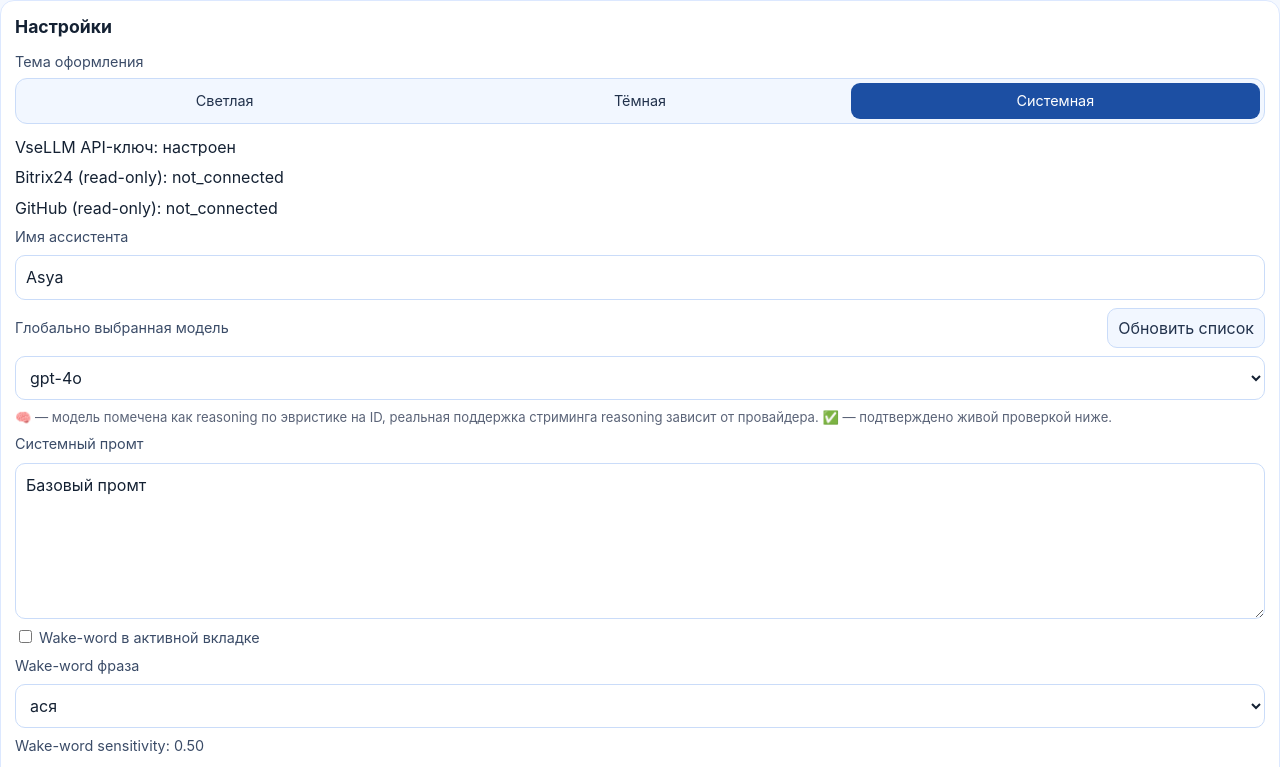
Test case: SettingsPage › позволяет изменить системный промт и сохранить настройки
This screenshot has width=1280, height=767.
Select "openai/gpt-5" in the dropdown labelled "Глобально выбранная модель": (640, 378) [15,356,1265,400]
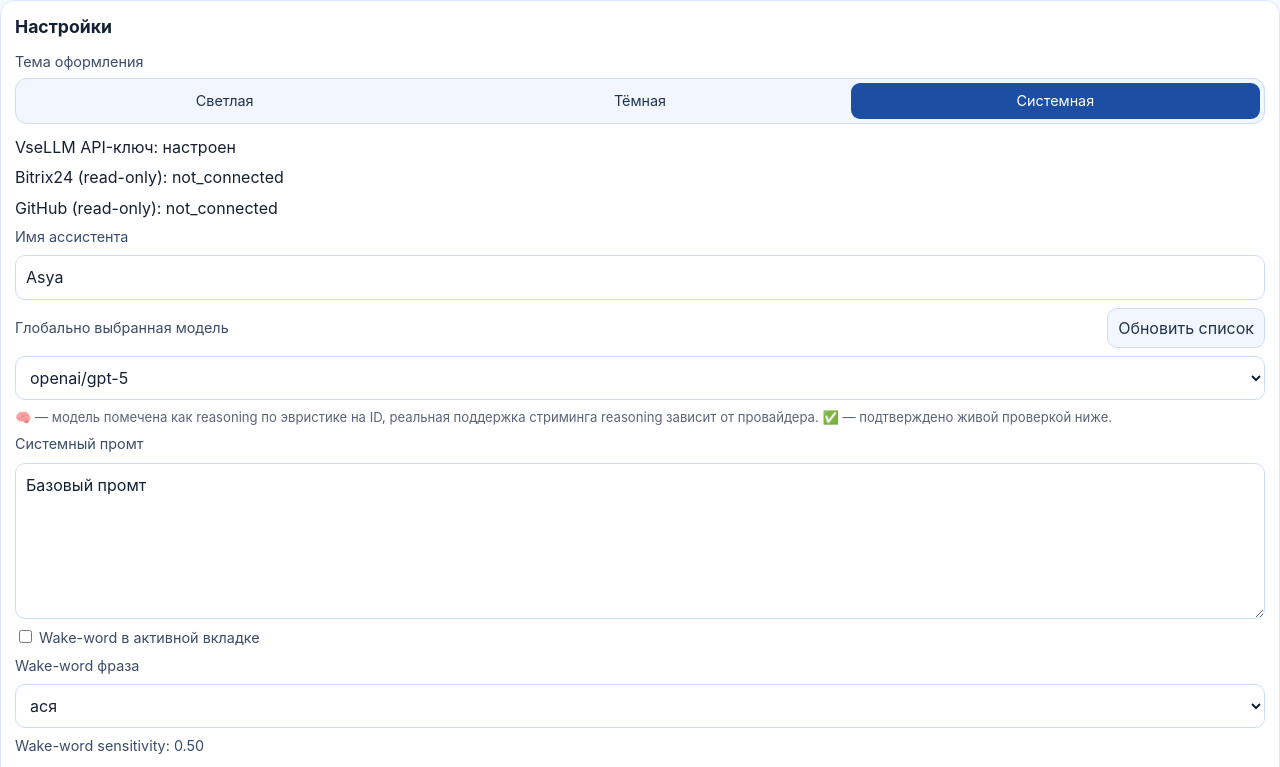
Replace the text in the text box labelled "Системный промт" with "Новый системный промт": (640, 541) [15,463,1265,619]
(page scrolled)
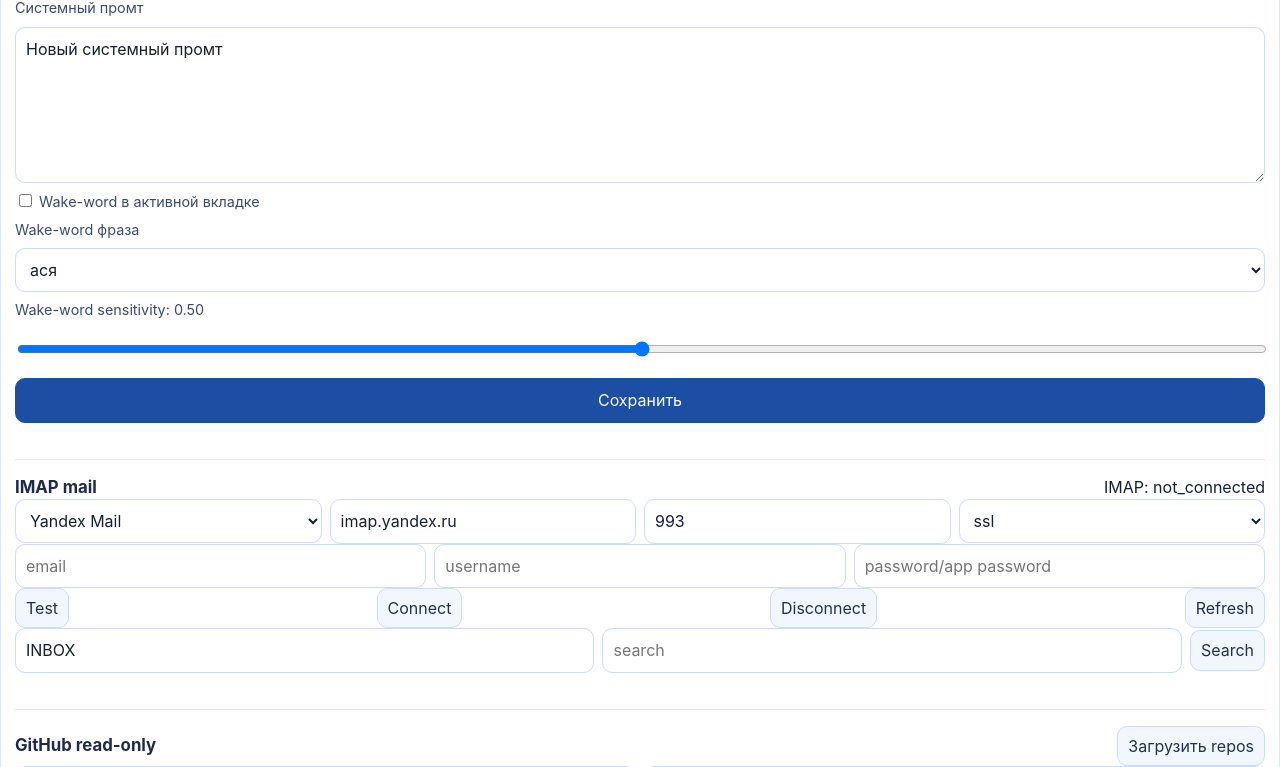
Click the button "Сохранить": (640, 401) [15,378,1265,423]
(page scrolled)
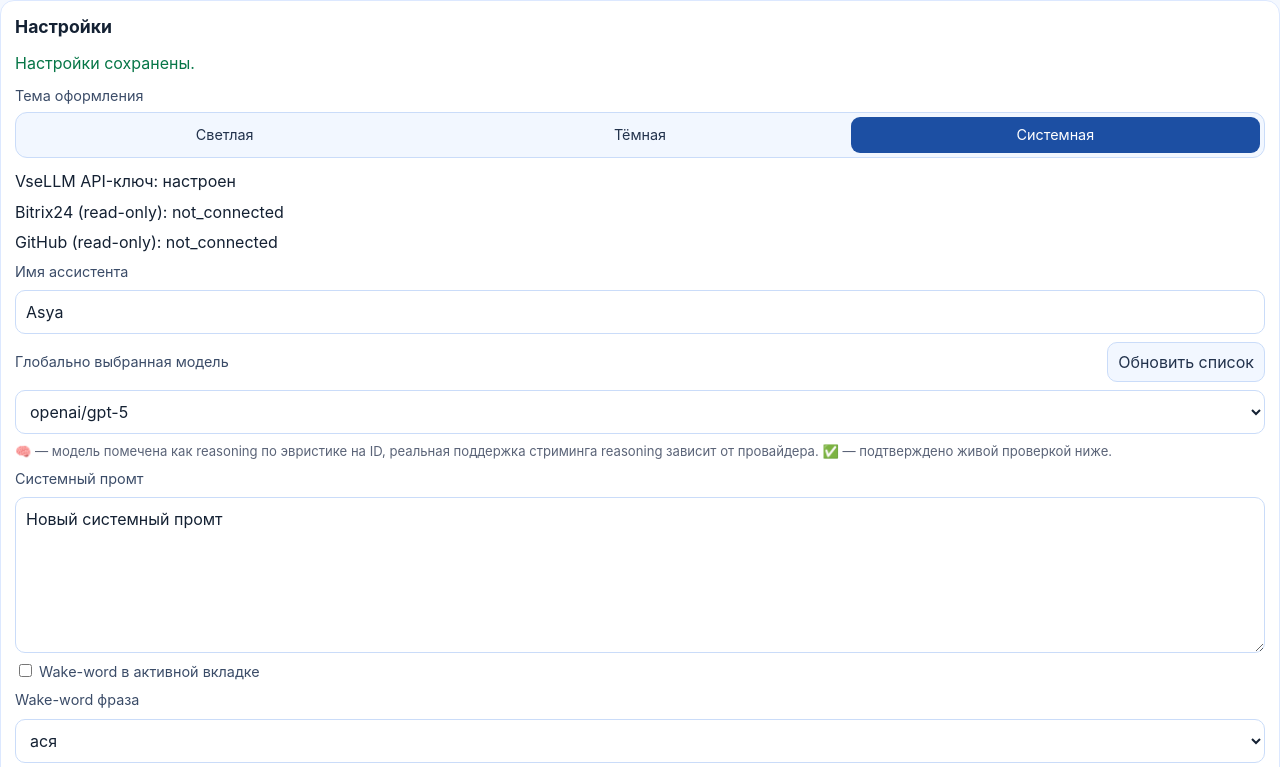
Result: the text "Настройки сохранены." is shown at [15,53,195,73]
